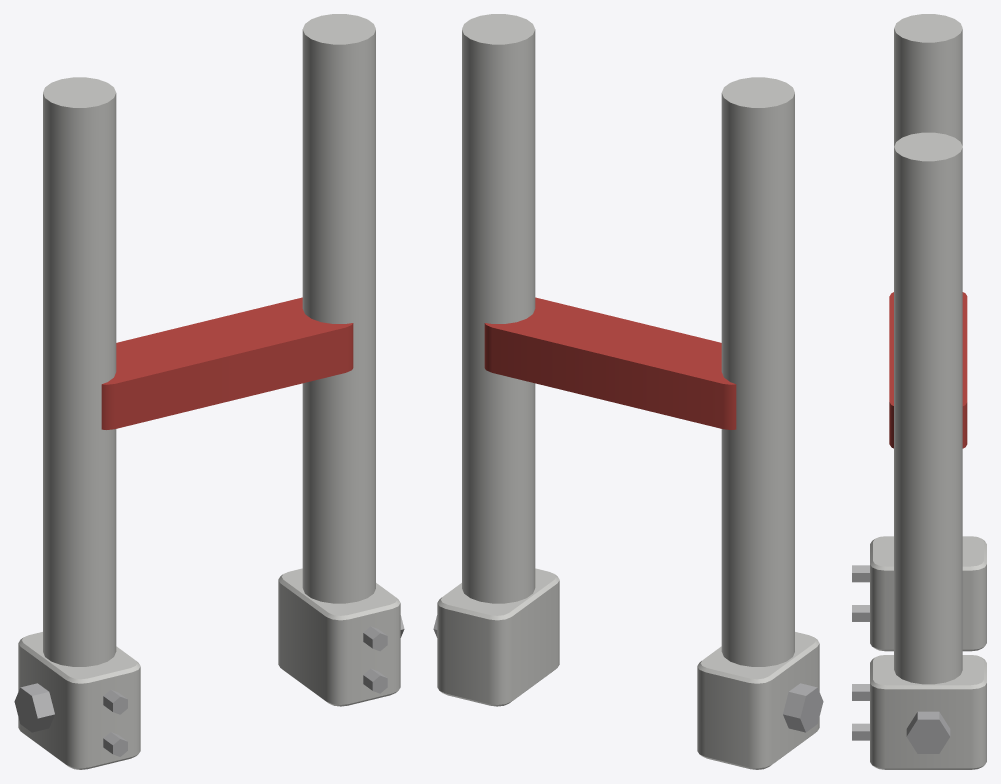
Rendered from roader_usd_black_lower.glb.
3 views of the same model, side by side, from view 1: azimuth 30°, elevation 25°; view 2: azimuth 150°, elevation 25°; view 3: azimuth 270°, elevation 25° (orthographic). The views are drawn at different scales.
Parts seen in each view (by area): view 1: lod0; view 2: lod0; view 3: lod0.
Part boxes in pixels (bbox=[...]): lod0: bbox=[14, 14, 404, 769]; lod0: bbox=[433, 14, 823, 769]; lod0: bbox=[852, 14, 986, 769].
Size of what is drawn, in the model's own units: 0.254 by 0.43 by 0.0865.
